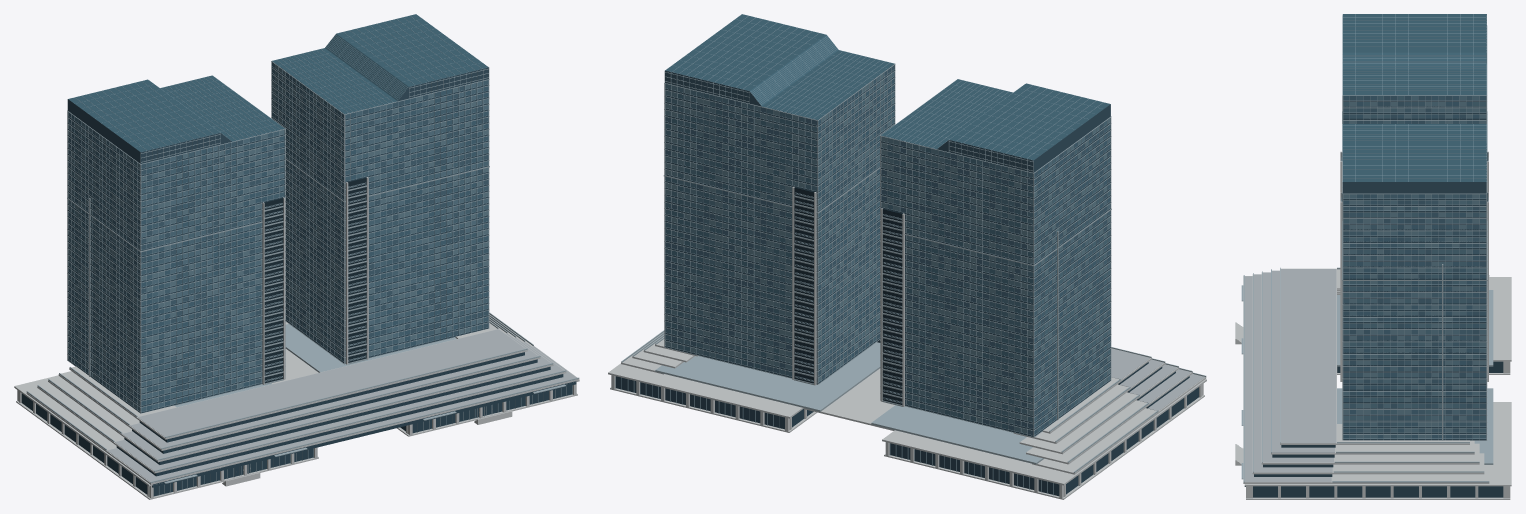
The model's file is twin-glass-towers.glb.
3 renders of one model, left to right at view 1: azimuth 30°, elevation 25°; view 2: azimuth 150°, elevation 25°; view 3: azimuth 270°, elevation 25°, orthographic. The views are drawn at different scales.
Visible parts, largest first — view 1: Tower West / individual vision panels, Tower East / individual vision panels, Podium / layered terrace slabs, Tower West / horizontal fins, Tower East / horizontal fins, Tower West / floor spandrels, Tower East / floor spandrels, Tower East / folded roof and standing seams, Tower West / vertical mullions, Podium / lobby glazing, Tower West / folded roof and standing seams, Tower East / vertical mullions (+4 smaller); view 2: Tower West / individual vision panels, Tower East / individual vision panels, Podium / layered terrace slabs, Tower West / horizontal fins, Tower East / horizontal fins, Tower West / floor spandrels, Tower East / floor spandrels, Tower East / folded roof and standing seams, Tower West / folded roof and standing seams, Tower East / vertical mullions, Tower West / vertical mullions, Podium / lobby glazing (+4 smaller); view 3: Podium / layered terrace slabs, Tower East / individual vision panels, Tower West / folded roof and standing seams, Tower East / horizontal fins, Tower East / floor spandrels, Tower East / folded roof and standing seams, Tower East / vertical mullions, Podium / lobby glazing, Tower West / individual vision panels, Podium / terrace balustrades, Tower West / horizontal fins, Tower East / recessed service stacks and louvres (+3 smaller).
Boxes of the visible parts, x1=… form: Tower West / individual vision panels: x1=68, y1=112, x2=284, y2=411; Tower East / individual vision panels: x1=272, y1=62, x2=488, y2=361; Podium / layered terrace slabs: x1=14, y1=314, x2=579, y2=499; Tower West / horizontal fins: x1=67, y1=75, x2=286, y2=411; Tower East / horizontal fins: x1=271, y1=61, x2=489, y2=364; Tower West / floor spandrels: x1=68, y1=116, x2=284, y2=413; Tower East / floor spandrels: x1=272, y1=67, x2=488, y2=363; Tower East / folded roof and standing seams: x1=272, y1=14, x2=489, y2=114; Tower West / vertical mullions: x1=67, y1=111, x2=285, y2=413; Podium / lobby glazing: x1=21, y1=352, x2=576, y2=496; Tower West / folded roof and standing seams: x1=67, y1=75, x2=284, y2=163; Tower East / vertical mullions: x1=271, y1=62, x2=489, y2=363; Tower West / individual vision panels: x1=881, y1=118, x2=1110, y2=435; Tower East / individual vision panels: x1=665, y1=65, x2=894, y2=382; Podium / layered terrace slabs: x1=608, y1=332, x2=1206, y2=499; Tower West / horizontal fins: x1=879, y1=79, x2=1111, y2=437; Tower East / horizontal fins: x1=663, y1=63, x2=895, y2=384; Tower West / floor spandrels: x1=881, y1=122, x2=1110, y2=436; Tower East / floor spandrels: x1=665, y1=69, x2=894, y2=383; Tower East / folded roof and standing seams: x1=664, y1=14, x2=894, y2=120; Tower West / folded roof and standing seams: x1=881, y1=79, x2=1110, y2=172; Tower East / vertical mullions: x1=664, y1=65, x2=895, y2=384; Tower West / vertical mullions: x1=880, y1=117, x2=1111, y2=437; Podium / lobby glazing: x1=616, y1=340, x2=1198, y2=496; Podium / layered terrace slabs: x1=1235, y1=268, x2=1511, y2=499; Tower East / individual vision panels: x1=1343, y1=194, x2=1486, y2=438; Tower West / folded roof and standing seams: x1=1342, y1=14, x2=1486, y2=95; Tower East / horizontal fins: x1=1342, y1=124, x2=1487, y2=440; Tower East / floor spandrels: x1=1343, y1=198, x2=1486, y2=440; Tower East / folded roof and standing seams: x1=1342, y1=124, x2=1486, y2=193; Tower East / vertical mullions: x1=1342, y1=194, x2=1486, y2=440; Podium / lobby glazing: x1=1244, y1=361, x2=1503, y2=497; Tower West / individual vision panels: x1=1343, y1=96, x2=1486, y2=123; Podium / terrace balustrades: x1=1243, y1=267, x2=1489, y2=482; Tower West / horizontal fins: x1=1342, y1=25, x2=1487, y2=182; Tower East / recessed service stacks and louvres: x1=1340, y1=192, x2=1488, y2=440.
Bounding box in the file's own units: 188 × 126 × 106.
